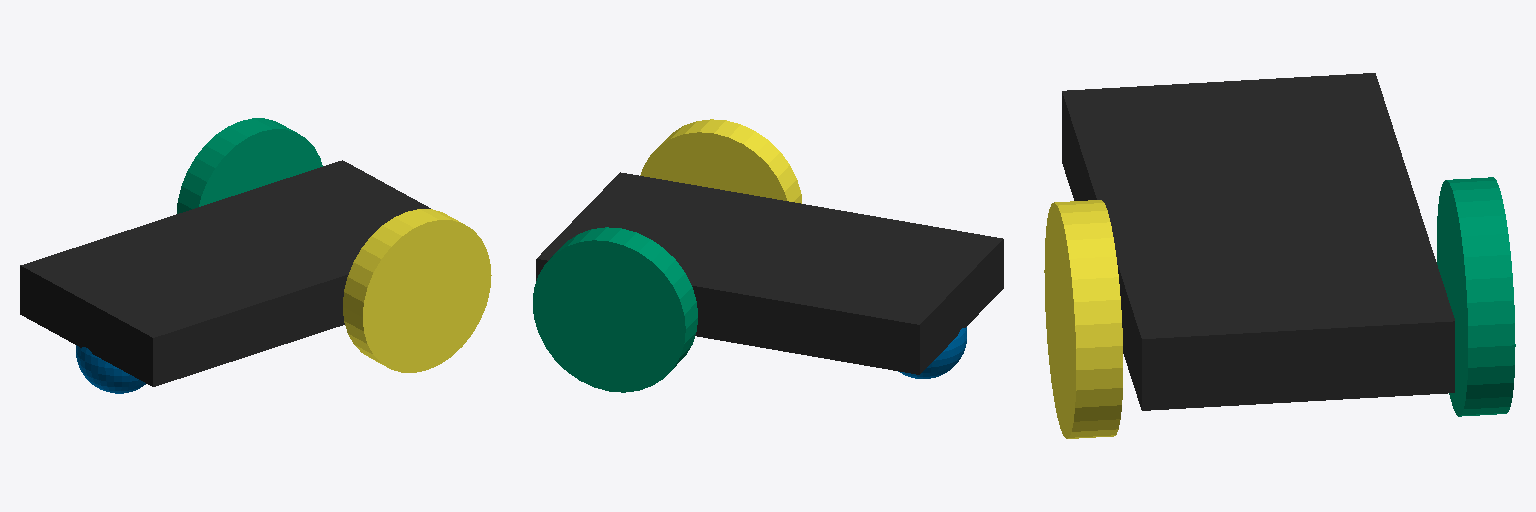
The robot description file, URDF, robot "maze_bot":
<?xml version="1.0"?>
<robot name="maze_bot">

    <material name="gray">
        <color rgba=".2 0.2 0.2 1.0" />
    </material>
    <material name="white">
        <color rgba="1.0 1.0 0.8 1.0" />
    </material>

    <link name="base_footprint" />

    <link name="base">
        <visual>
            <geometry>
                <box size="0.75 0.4 0.1" />
            </geometry>
            <material name="gray" />
        </visual>

        <collision>
            <geometry>
                <box size="0.75 0.4 0.1" />
            </geometry>
            <contact_coefficients mu="0" kp="1000.0" kd="1.0" />
        </collision>
    </link>

    <joint name="base_joint" type="fixed">
        <parent link="base_footprint" />
        <child link="base" />
        <origin xyz="0.0 0.0 0.0" rpy="0.0 0.0 0.135" />
    </joint>

    <link name="right_wheel">
        <inertial>
            <mass value="1" />
            <inertia ixx="100" ixy="0" ixz="100" iyy="100" iyz="0" izz="100" />
        </inertial>

        <visual>
            <geometry>
                <cylinder radius="0.15" length="0.06" />
                <material name="white" />
            </geometry>
        </visual>

        <collision>
            <geometry>
                <cylinder radius="0.15" length="0.06" />
            </geometry>
            <contact_coefficients mu="0" kp="1000.0" kd="1.0" />
        </collision>
    </link>

    <joint name="wheel_right_joint" type="continuous">
        <origin xyz="0.2 0.25 0.0" rpy="1.57 0.0 0.0" />
        <parent link="base" />
        <child link="right_wheel" />
        <axis xyz="0.0 0.0 1.0" />
    </joint>

    <link name="left_wheel">
        <inertial>
            <mass value="1" />
            <inertia ixx="100" ixy="0" ixz="100" iyy="100" iyz="0" izz="100" />
        </inertial>

        <visual>
            <geometry>
                <cylinder radius="0.15" length="0.06" />
                <material name="white" />
            </geometry>
        </visual>

        <collision>
            <geometry>
                <cylinder radius="0.15" length="0.06" />
            </geometry>
            <contact_coefficients mu="0" kp="1000.0" kd="1.0" />
        </collision>
    </link>

    <joint name="wheel_left_joint" type="continuous">
        <origin xyz="0.2 -0.25 0.0" rpy="1.57 0.0 0.0" />
        <parent link="base" />
        <child link="left_wheel" />
        <axis xyz="0.0 0.0 1.0" />
    </joint>

    <link name="caster">
        <inertial>
            <mass value="1" />
            <inertia ixx="100" ixy="0" ixz="100" iyy="100" iyz="0" izz="100" />
        </inertial>

        <visual>
            <geometry>
                <sphere radius="0.08" />
                <material name="white"/>
            </geometry>
        </visual>

        <collision>
            <origin xyz="0.0 0.0 0.0" rpy="0.0 0.0 0.0"/>
            <geometry>
                <sphere radius="0.08" />
            </geometry>
            <contact_coefficients mu="0" kp="1000.0" kd="1.0" />
        </collision>
    </link>

    <joint name="caster_joint" type="continuous">
        <origin xyz="-0.3 0.0 -0.07" rpy="0.0 0.0 0.0"/>
        <parent link="base"/>
        <child link="caster"/>
        <axis xyz="0.0 0.0 1.0"/>
    </joint>
    
</robot>

--- Facts derived from the render (not from the file) ---
The picture shows the robot from 3 angles, left to right: view 1: azimuth 30°, elevation 25°; view 2: azimuth 150°, elevation 25°; view 3: azimuth 270°, elevation 25°; orthographic projection.
Robot: maze_bot — 5 links, 4 joints (3 continuous, 1 fixed); root link base_footprint; default pose: all joints at 0.
Links seen in each view (by area): view 1: base, left_wheel, right_wheel, caster; view 2: base, right_wheel, left_wheel, caster; view 3: base, left_wheel, right_wheel.
Link boxes in pixels (x1,y1,x2,y2): base: [20, 160, 430, 386]; left_wheel: [343, 209, 491, 372]; right_wheel: [177, 118, 322, 213]; caster: [76, 345, 145, 393]; base: [536, 172, 1003, 374]; right_wheel: [533, 227, 697, 392]; left_wheel: [640, 119, 801, 203]; caster: [898, 327, 966, 378]; base: [1062, 73, 1454, 410]; left_wheel: [1044, 200, 1122, 438]; right_wheel: [1437, 177, 1515, 416].
Size in the robot's own frame: 0.797 by 0.5953 by 0.3 metres.
Geometry: primitives only (box / cylinder / sphere), no mesh files.